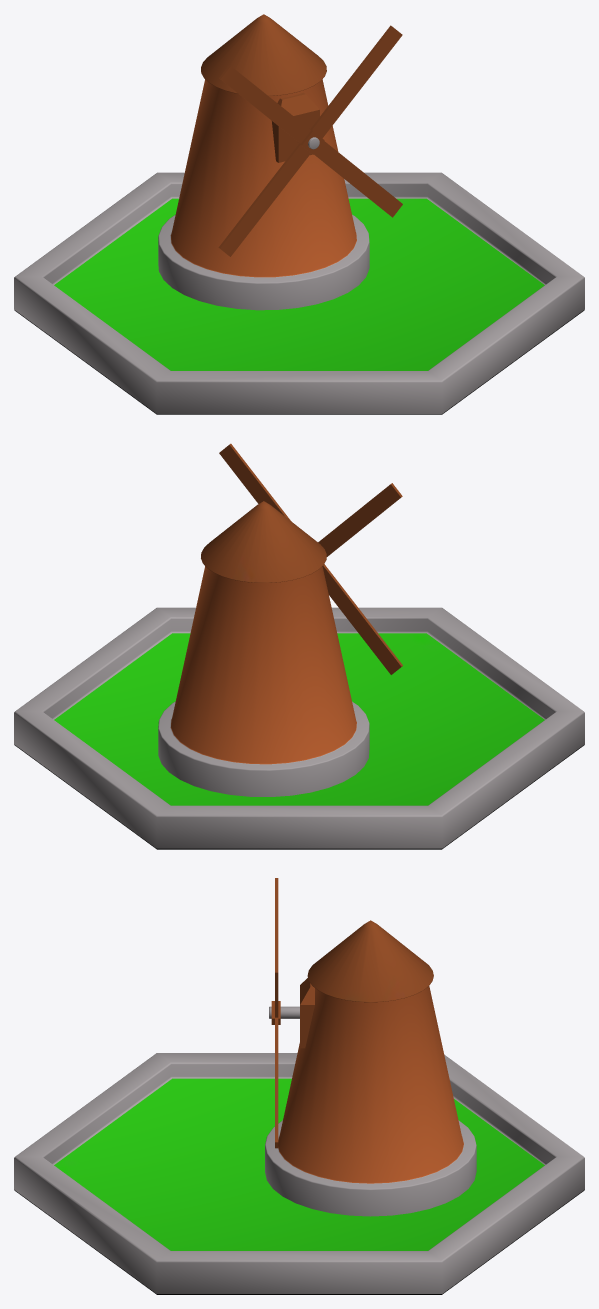
The model's file is Windmill.gltf.
The picture shows the model from 3 angles, top to bottom: view 1: azimuth 30°, elevation 25°; view 2: azimuth 150°, elevation 25°; view 3: azimuth 270°, elevation 25°; orthographic projection.
Parts seen in each view (by area): view 1: Cube.006, Cube.000; view 2: Cube.006, Cube.000; view 3: Cube.006, Cube.000.
Part boxes in pixels (x1,y1,x2,y2): Cube.006: (14,14,584,414); Cube.000: (218,25,402,256); Cube.006: (14,501,584,849); Cube.000: (219,443,402,674); Cube.006: (14,920,584,1294); Cube.000: (269,878,299,1148).
Size of the model in its own units: 1.39 by 0.846 by 1.6.
Materials: 1 (1 with a texture image).
